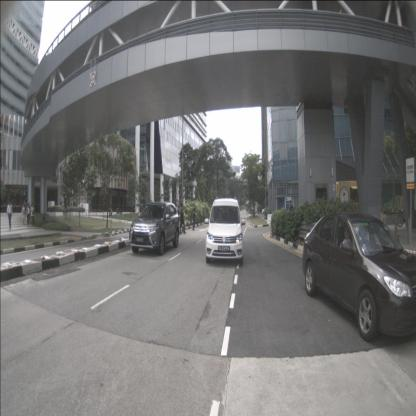human-pedestrian-adult: (288, 200, 294, 235), (180, 204, 186, 235), (192, 203, 198, 231), (7, 201, 13, 229), (20, 204, 26, 226), (30, 202, 35, 227), (26, 203, 30, 225)
movable_object-trafficcone: (263, 214, 266, 221)
vehicle-bicycle: (397, 207, 409, 227)
vehicle-car: (302, 210, 415, 343), (129, 202, 180, 255), (206, 198, 243, 264)
